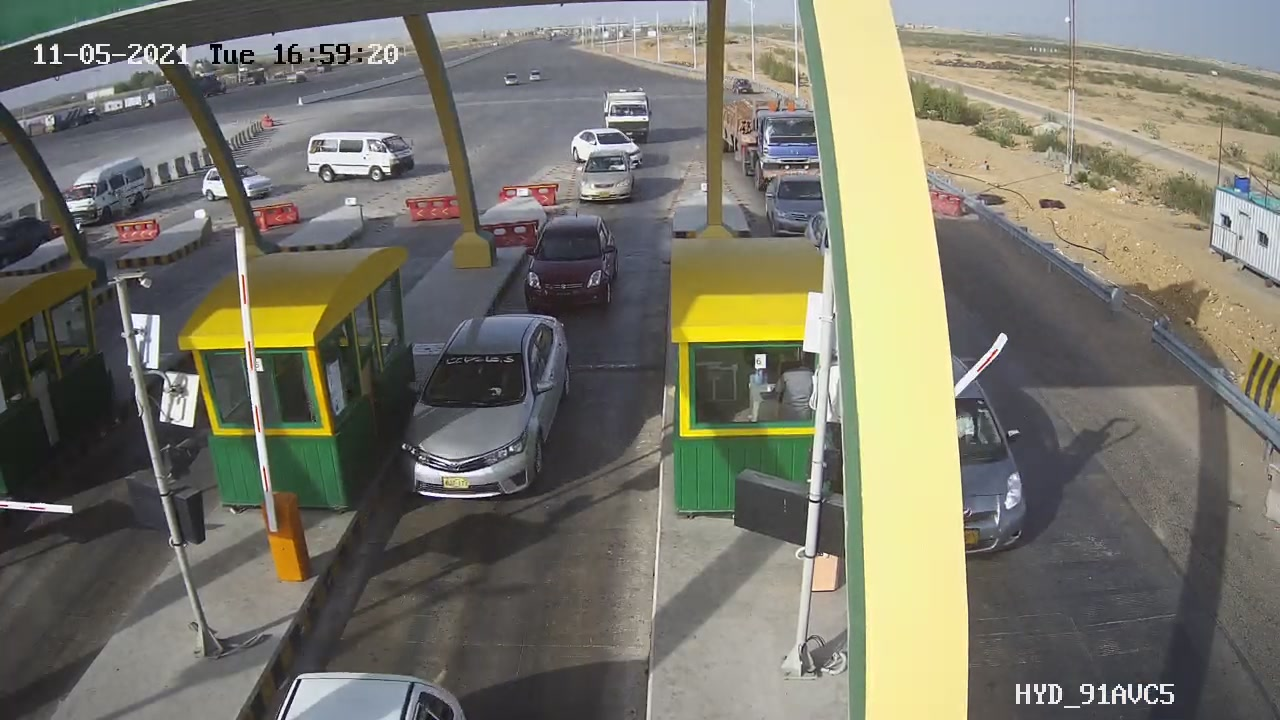F1: (379, 299, 594, 519), (510, 201, 629, 325)
